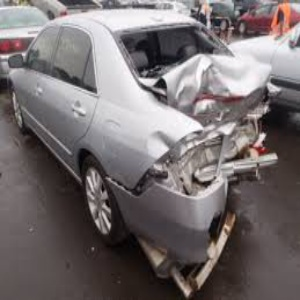bonnet: (164, 52, 276, 107)
bumper: (106, 135, 277, 288)
